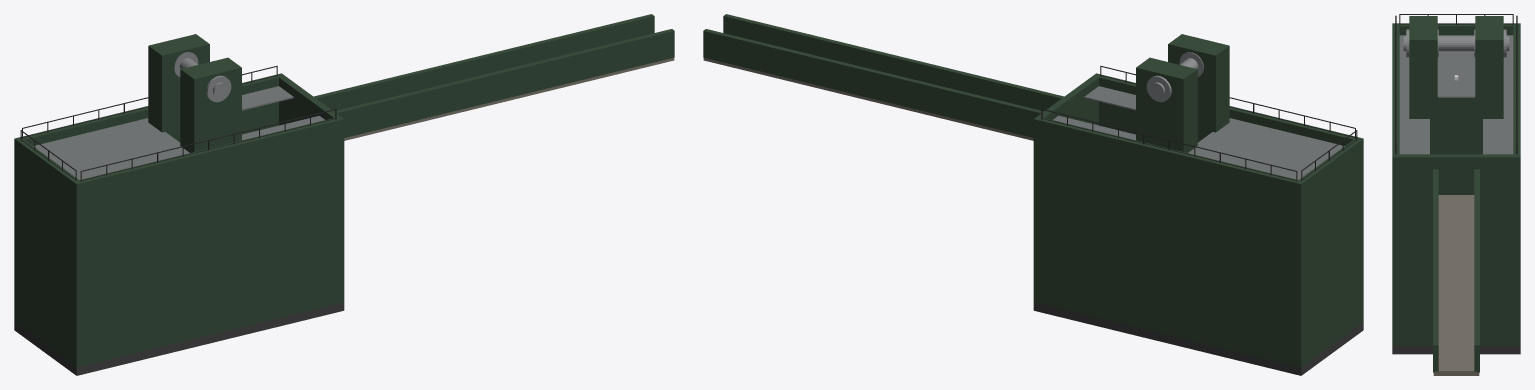
File: AR_Pagode_voet.fbx
The picture shows the model from 3 angles, left to right: view 1: azimuth 30°, elevation 25°; view 2: azimuth 150°, elevation 25°; view 3: azimuth 270°, elevation 25°; orthographic projection. The views are drawn at different scales.
Visible parts, largest first — view 1: PG_beton_groen_0_vt, PG_rooster_0_vt, PG_beton_donker_0_vt, PG_hek_0_vt, PG_grind_0_vt, PG_staal_0_vt; view 2: PG_beton_groen_0_vt, PG_rooster_0_vt, PG_beton_donker_0_vt, PG_hek_0_vt, PG_grind_0_vt, PG_staal_0_vt; view 3: PG_beton_groen_0_vt, PG_grind_0_vt, PG_rooster_0_vt, PG_staal_0_vt, PG_hek_0_vt, PG_beton_donker_0_vt.
Boxes of the visible parts, bbox=[...] form: PG_beton_groen_0_vt: bbox=[14, 14, 674, 367]; PG_rooster_0_vt: bbox=[33, 86, 324, 179]; PG_beton_donker_0_vt: bbox=[14, 302, 344, 375]; PG_hek_0_vt: bbox=[20, 65, 336, 181]; PG_grind_0_vt: bbox=[344, 57, 674, 140]; PG_staal_0_vt: bbox=[174, 52, 231, 102]; PG_beton_groen_0_vt: bbox=[703, 14, 1363, 367]; PG_rooster_0_vt: bbox=[1053, 86, 1344, 179]; PG_beton_donker_0_vt: bbox=[1033, 302, 1363, 375]; PG_hek_0_vt: bbox=[1041, 65, 1357, 181]; PG_grind_0_vt: bbox=[703, 57, 1033, 140]; PG_staal_0_vt: bbox=[1146, 52, 1203, 102]; PG_beton_groen_0_vt: bbox=[1392, 16, 1520, 372]; PG_grind_0_vt: bbox=[1433, 195, 1479, 375]; PG_rooster_0_vt: bbox=[1399, 35, 1513, 154]; PG_staal_0_vt: bbox=[1403, 29, 1509, 57]; PG_hek_0_vt: bbox=[1395, 14, 1517, 154]; PG_beton_donker_0_vt: bbox=[1392, 346, 1520, 354].
Bounding box in the file's own units: 38.8 × 15.6 × 6.8.
